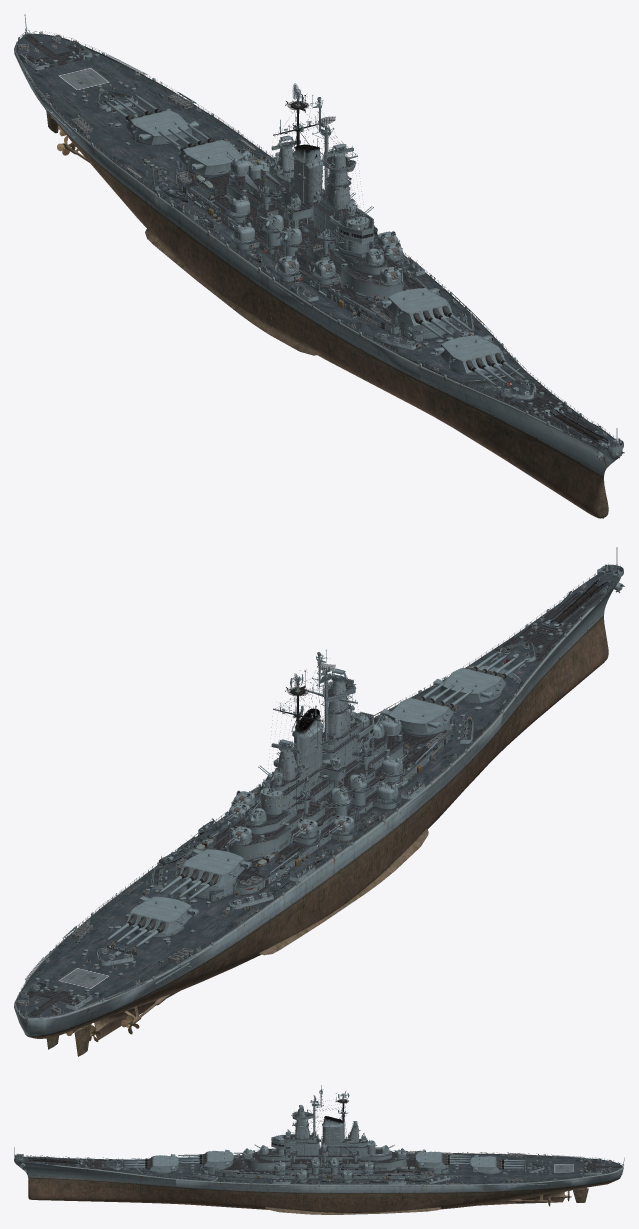
The model's file is maine-maximum-compressed.glb.
3 renders of one model, top to bottom at view 1: azimuth 30°, elevation 25°; view 2: azimuth 150°, elevation 25°; view 3: azimuth 270°, elevation 25°, orthographic. The views are drawn at different scales.
Parts seen in each view (by area): view 1: Object_62, Object_84, Object_82, Object_61, Object_88, Object_59, Object_78, Object_108, Object_109, Object_80, Object_86, Object_85 (+4 smaller); view 2: Object_62, Object_78, Object_88, Object_84, Object_59, Object_82, Object_61, Object_108, Object_109, Object_86, Object_80, Object_85 (+3 smaller); view 3: Object_84, Object_62, Object_82, Object_88, Object_78, Object_61, Object_59, Object_108, Object_109, Object_85, Object_80, Object_86 (+5 smaller).
Part boxes in pixels (x1,y1,x2,y2): Object_62: [15, 33, 619, 447]; Object_84: [262, 192, 493, 406]; Object_82: [412, 337, 623, 518]; Object_61: [271, 95, 490, 355]; Object_88: [161, 163, 312, 324]; Object_59: [170, 95, 377, 265]; Object_78: [14, 16, 270, 244]; Object_108: [158, 124, 473, 339]; Object_109: [106, 94, 526, 386]; Object_80: [270, 95, 492, 355]; Object_86: [184, 94, 322, 265]; Object_85: [17, 30, 273, 334]; Object_62: [15, 568, 619, 1017]; Object_78: [14, 863, 280, 1056]; Object_88: [171, 763, 380, 940]; Object_84: [322, 697, 493, 871]; Object_59: [177, 670, 377, 886]; Object_82: [412, 548, 623, 766]; Object_61: [308, 649, 489, 813]; Object_108: [158, 682, 473, 900]; Object_109: [106, 652, 526, 947]; Object_86: [175, 681, 371, 879]; Object_80: [275, 650, 492, 810]; Object_85: [17, 813, 394, 1032]; Object_84: [190, 1132, 318, 1214]; Object_62: [16, 1149, 622, 1184]; Object_82: [14, 1148, 181, 1203]; Object_88: [321, 1138, 411, 1214]; Object_78: [422, 1152, 624, 1211]; Object_61: [190, 1085, 323, 1184]; Object_59: [321, 1093, 414, 1184]; Object_108: [178, 1149, 471, 1168]; Object_109: [124, 1154, 525, 1172]; Object_85: [308, 1152, 623, 1214]; Object_80: [187, 1091, 322, 1183]; Object_86: [320, 1098, 409, 1180].
Bounding box in the file's own units: 2.6 × 4.26 × 21.03.
93 materials, 91 textured.
